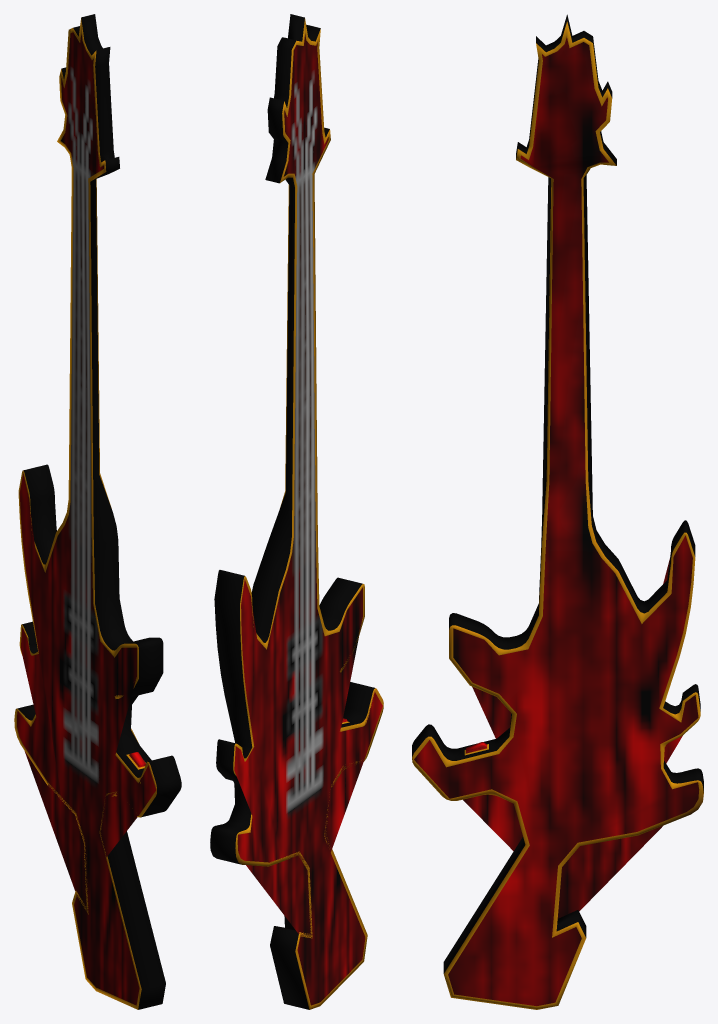
The model's file is GunGuitar2.fbx.
3 renders of one model, left to right at view 1: azimuth 30°, elevation 25°; view 2: azimuth 150°, elevation 25°; view 3: azimuth 270°, elevation 25°, orthographic. The views are drawn at different scales.
Visible parts, largest first — view 1: AmalythGuitar.001; view 2: AmalythGuitar.001; view 3: AmalythGuitar.001.
Part boxes in pixels (x1,y1,x2,y2): AmalythGuitar.001: (14, 14, 181, 1009); AmalythGuitar.001: (210, 14, 383, 1009); AmalythGuitar.001: (412, 14, 703, 1009).
Size of the model in its own units: 0.0167 by 0.6285 by 0.169.
